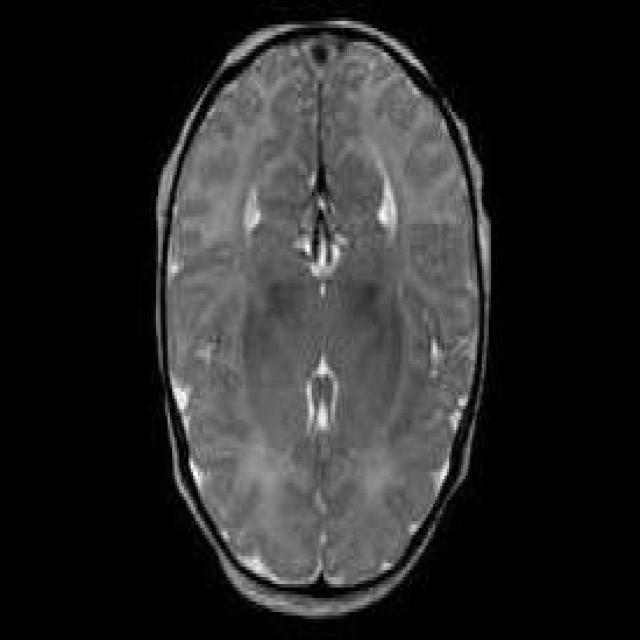notumor: (149, 21, 493, 626)
